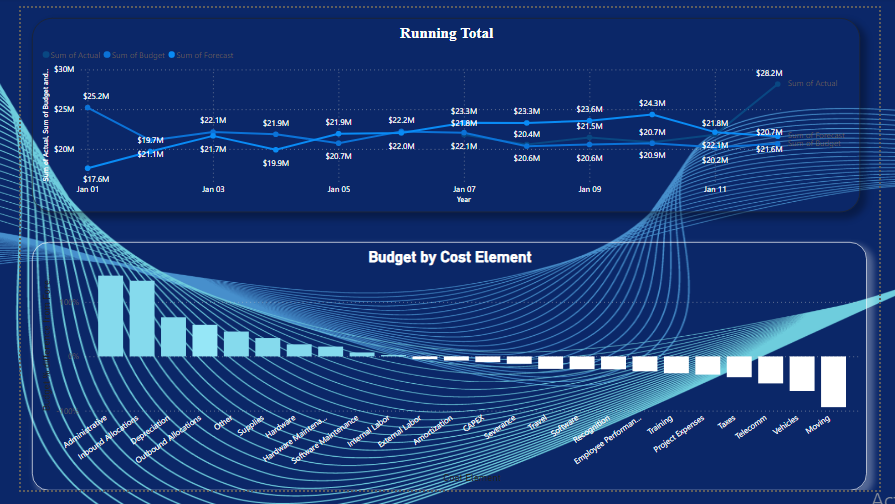

What the dashboard file says about the page in this screenshot:
{"tool":"powerbi","page":{"name":"Page 2","canvas":[1280,720],"ordinal":1},"visuals":[{"type":"clusteredColumnChart","title":"Budget by Cost Element","fields":{"Y":["Budget.Budget % difference from Forecast"],"Category":["CostElements.Cost Element"]},"box":[15.8,349.2,1246,370.8],"z":0},{"type":"lineChart","title":"Running Total","fields":{"Category":["Calendar.Date.Variation.Date Hierarchy.Year","Calendar.Date.Variation.Date Hierarchy.Quarter","Calendar.Date.Variation.Date Hierarchy.Month","Calendar.Date.Variation.Date Hierarchy.Day"],"Y":["Sum(actuals.Actual)","Sum(Budget.Budget)","Sum(Forecast.Forecast)"]},"box":[15.8,14.4,1235.9,290.3],"z":1}]}

Visuals, with their boxes in screenshot pixels (x1, y1, x2, y2), scaled from the page's 1280x720 canvas onto the 895x504 screenshot:
"Budget by Cost Element" clusteredColumnChart: [11, 244, 882, 503]
"Running Total" lineChart: [11, 10, 875, 213]
